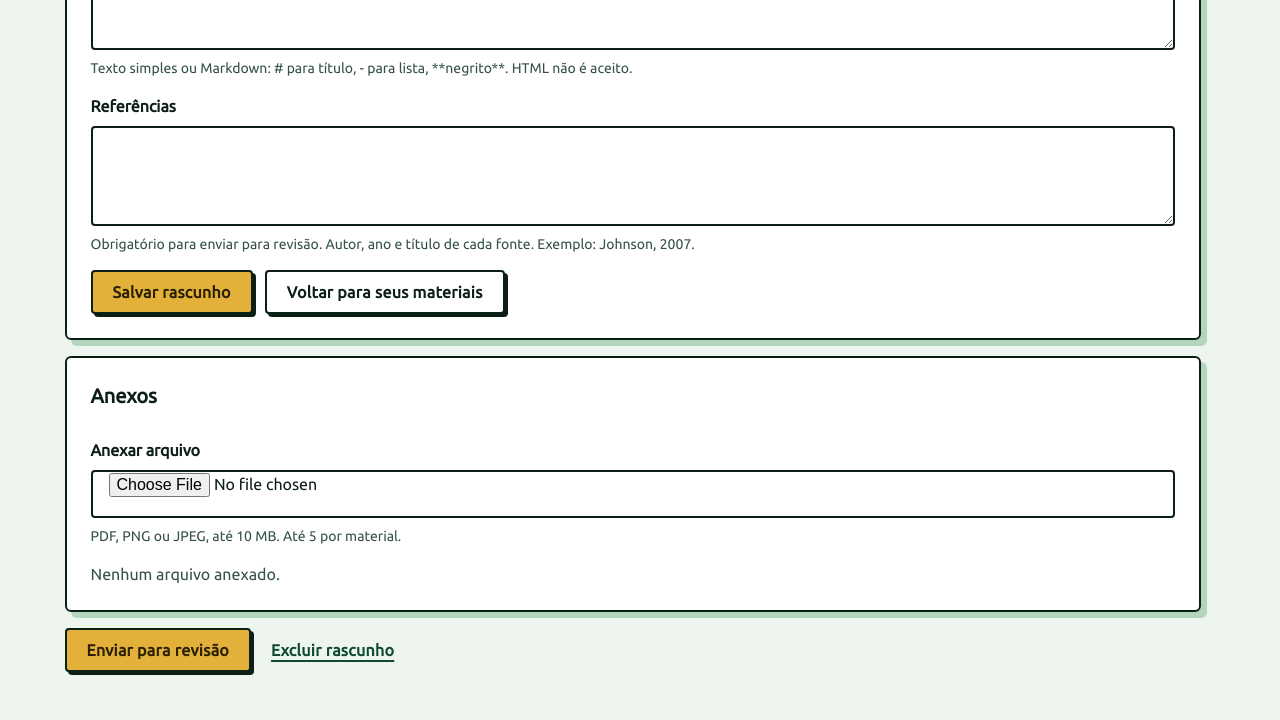
deveExigirAFonteAntesDeEnviarParaRevisao
(page scrolled)
Click the button "Enviar para revisão". click: (158, 650)
box: [64, 628, 251, 672]
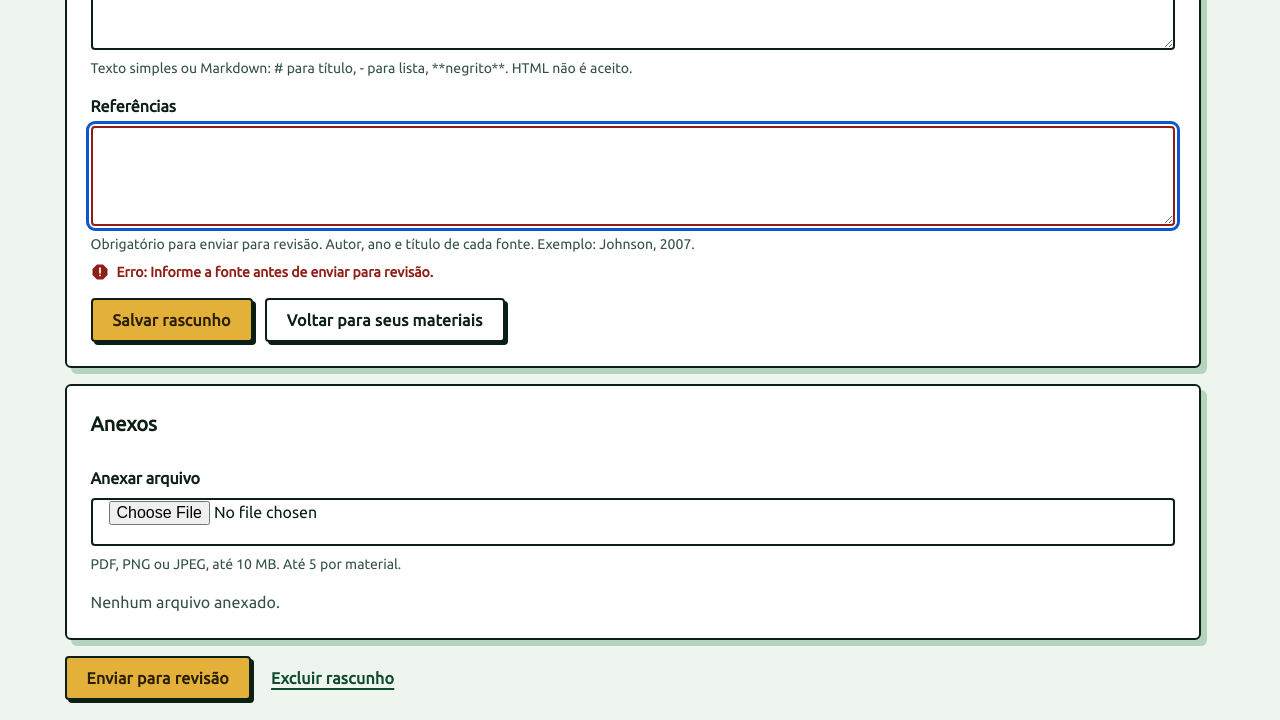
Result: the text "Informe a fonte antes de enviar para revisão." is shown at [150, 264, 433, 280]
